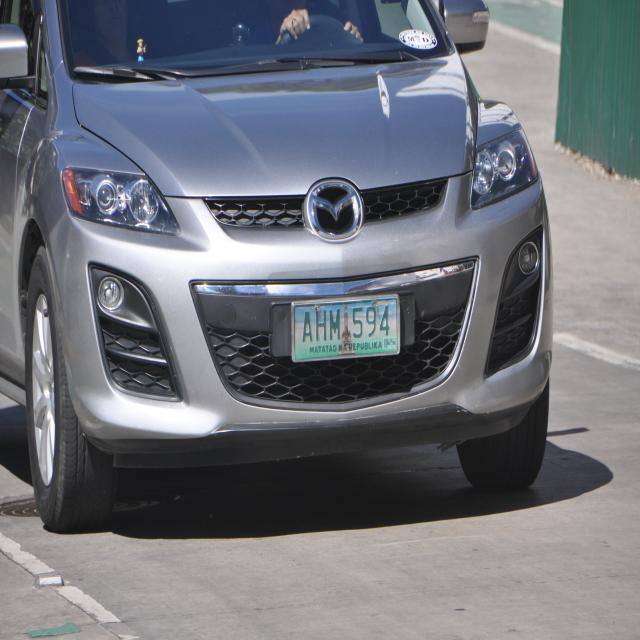LicensePlate: (283, 289, 407, 371)
